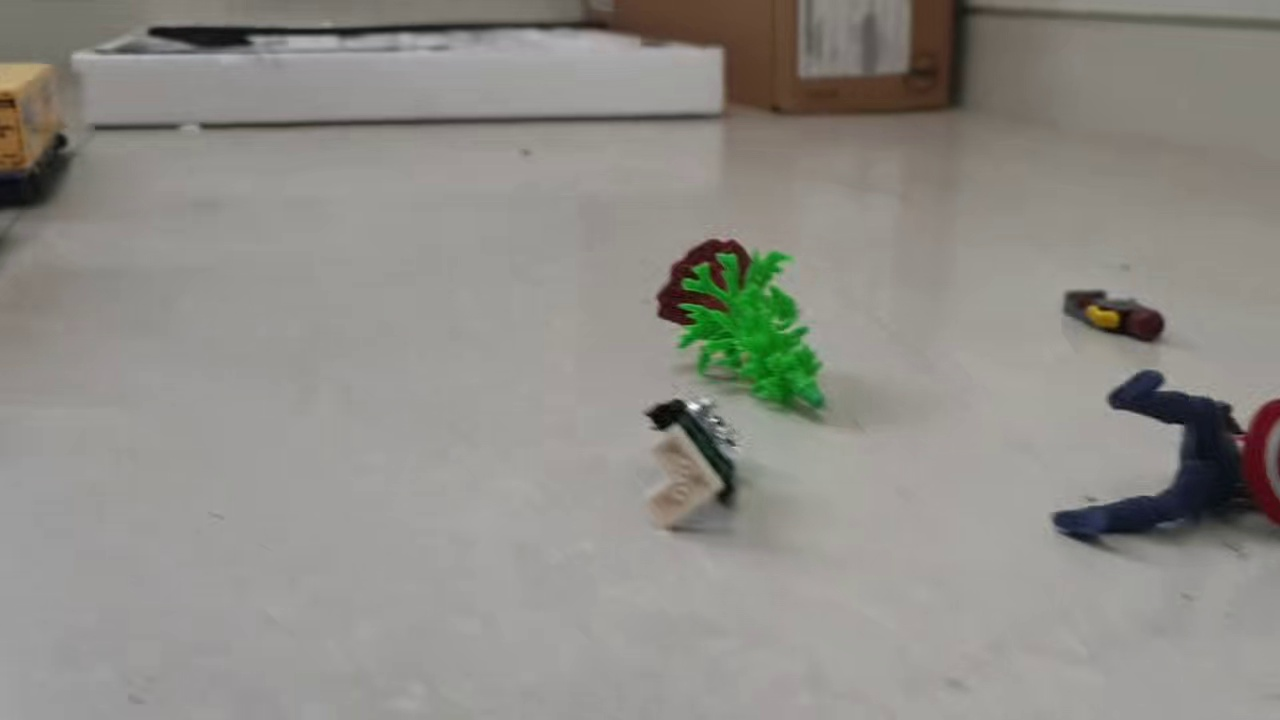people: (1048, 366, 1280, 545), (644, 391, 744, 532), (1058, 284, 1172, 349)
tree: (655, 235, 834, 420)
